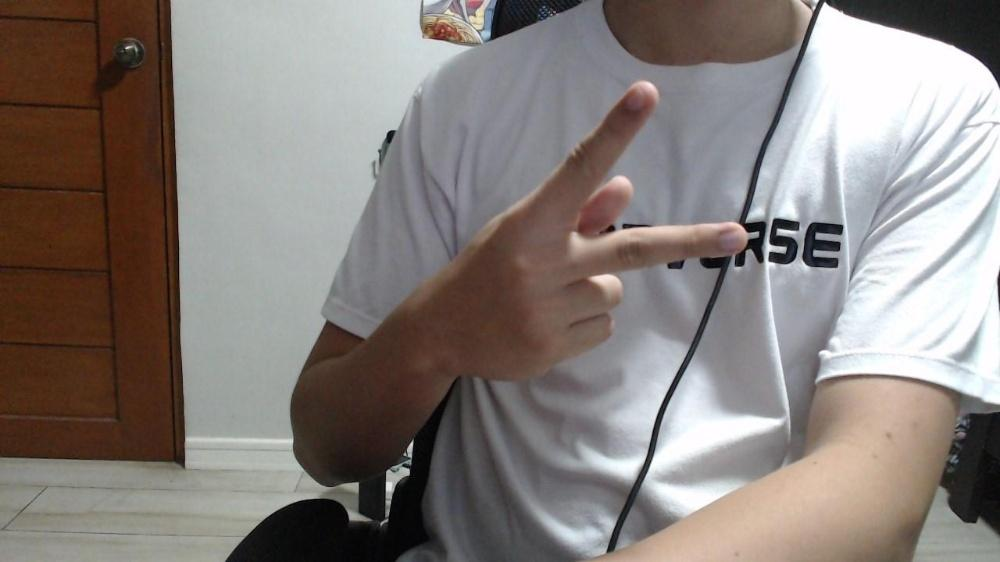k: (452, 80, 749, 381)
